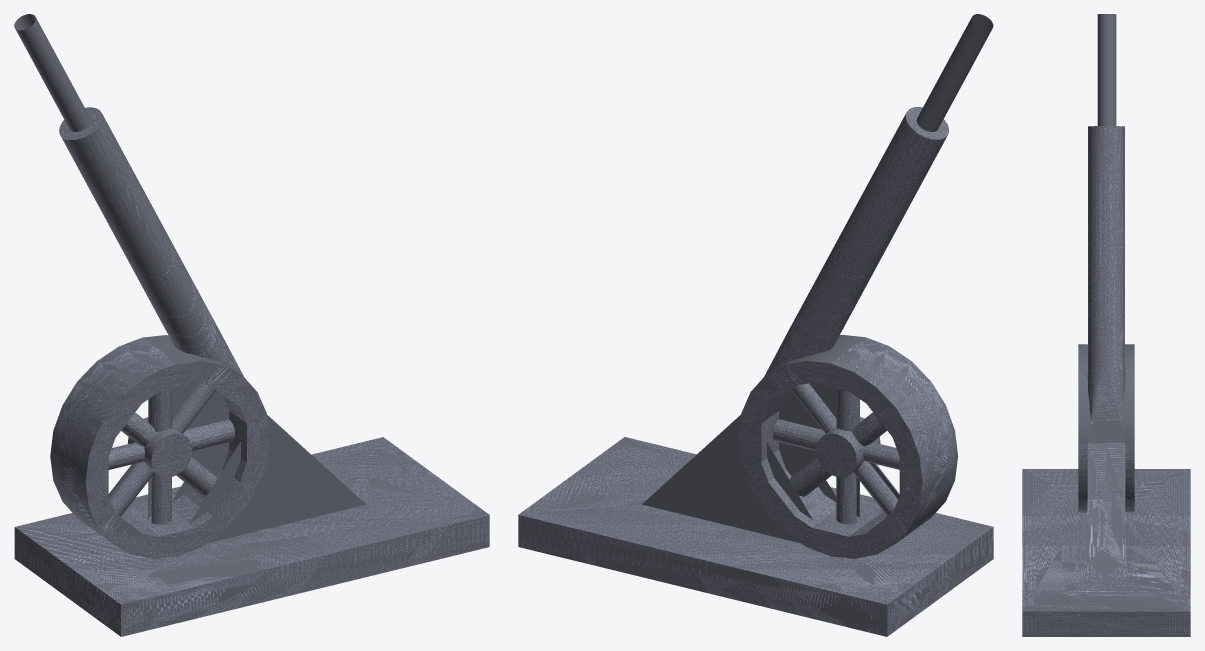
Rendered from Cannon.fbx.
3 views of the same model, side by side, from view 1: azimuth 30°, elevation 25°; view 2: azimuth 150°, elevation 25°; view 3: azimuth 270°, elevation 25° (orthographic). The views are drawn at different scales.
Parts seen in each view (by area): view 1: Cannon1; view 2: Cannon1; view 3: Cannon1.
Part boxes in pixels (left/top/right/bottom): Cannon1: left=14, top=14, right=489, bottom=636; Cannon1: left=518, top=14, right=993, bottom=636; Cannon1: left=1022, top=14, right=1190, bottom=636.
Size of the model in its own units: 0.0287 by 0.0385 by 0.0126.
